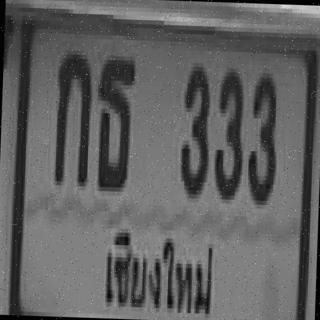A01: (53, 50, 91, 182)
A24: (94, 51, 135, 188)
N03: (246, 69, 277, 201), (212, 64, 243, 195), (179, 61, 210, 192)
P11: (95, 223, 220, 320)
